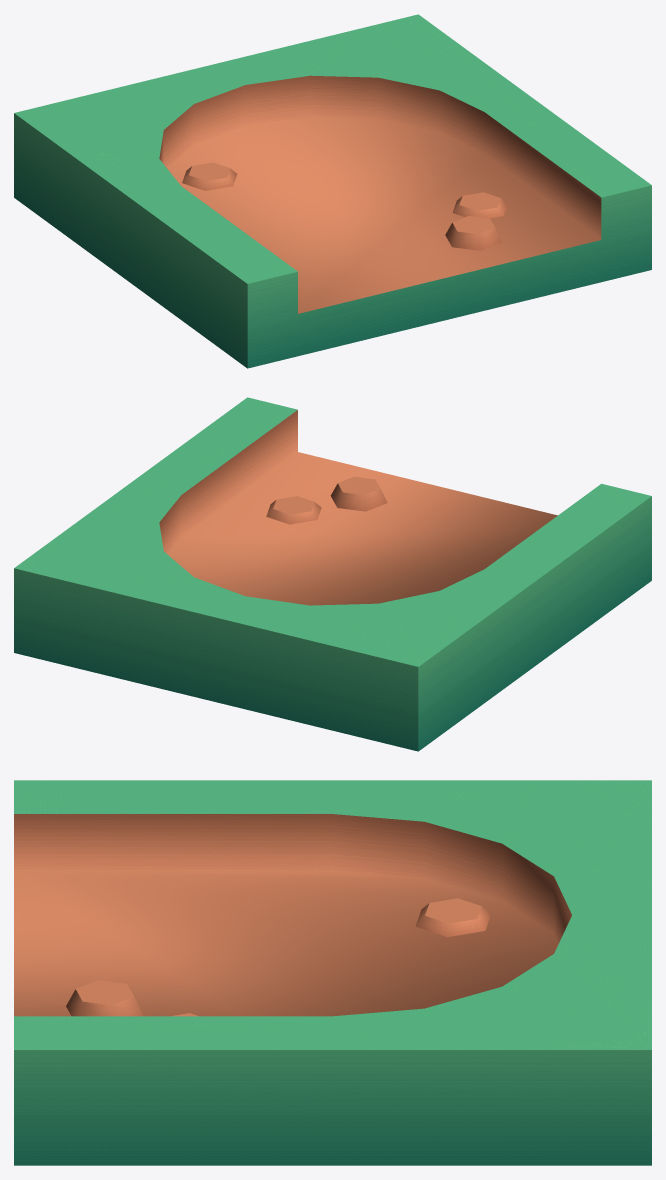
Rendered from tile-end-round.glb.
The picture shows the model from 3 angles, top to bottom: view 1: azimuth 30°, elevation 25°; view 2: azimuth 150°, elevation 25°; view 3: azimuth 270°, elevation 25°; orthographic projection. The views are drawn at different scales.
Visible parts, largest first — view 1: tile-end-round; view 2: tile-end-round; view 3: tile-end-round.
Boxes of the visible parts, box(x1,y1,x2,y2) form: tile-end-round: box(14, 14, 651, 368); tile-end-round: box(14, 397, 651, 751); tile-end-round: box(14, 780, 651, 1165).
Bounding box in the file's own units: 3 × 0.6 × 3.
1 material, 1 textured.
